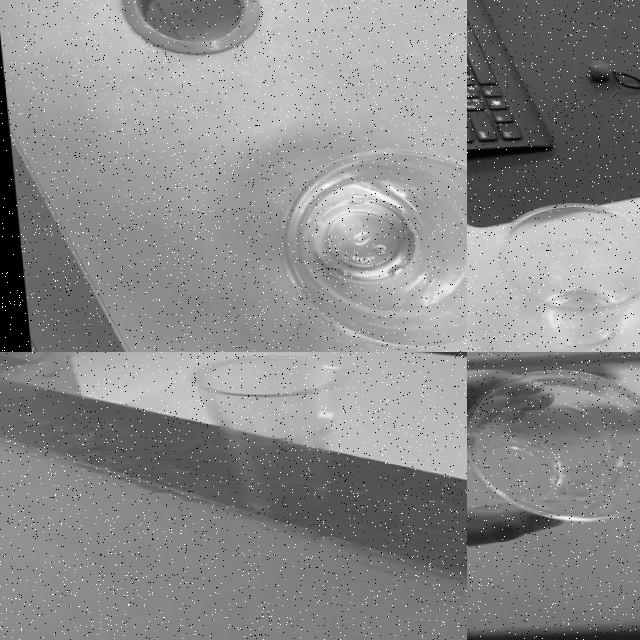glass: (246, 129, 467, 352), (175, 352, 360, 523), (467, 358, 640, 527), (474, 190, 640, 352)
